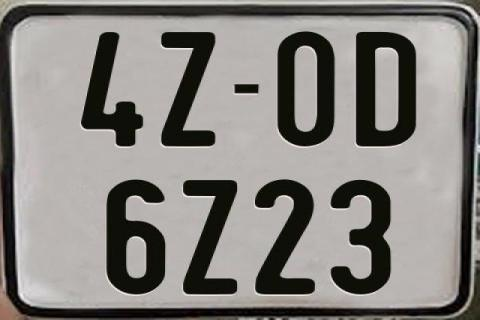0: (81, 30, 148, 148), (104, 180, 170, 298), (254, 178, 318, 298), (328, 178, 393, 296), (274, 31, 336, 147)
D: (356, 32, 421, 147)
Z: (158, 30, 217, 150), (182, 180, 240, 294)
